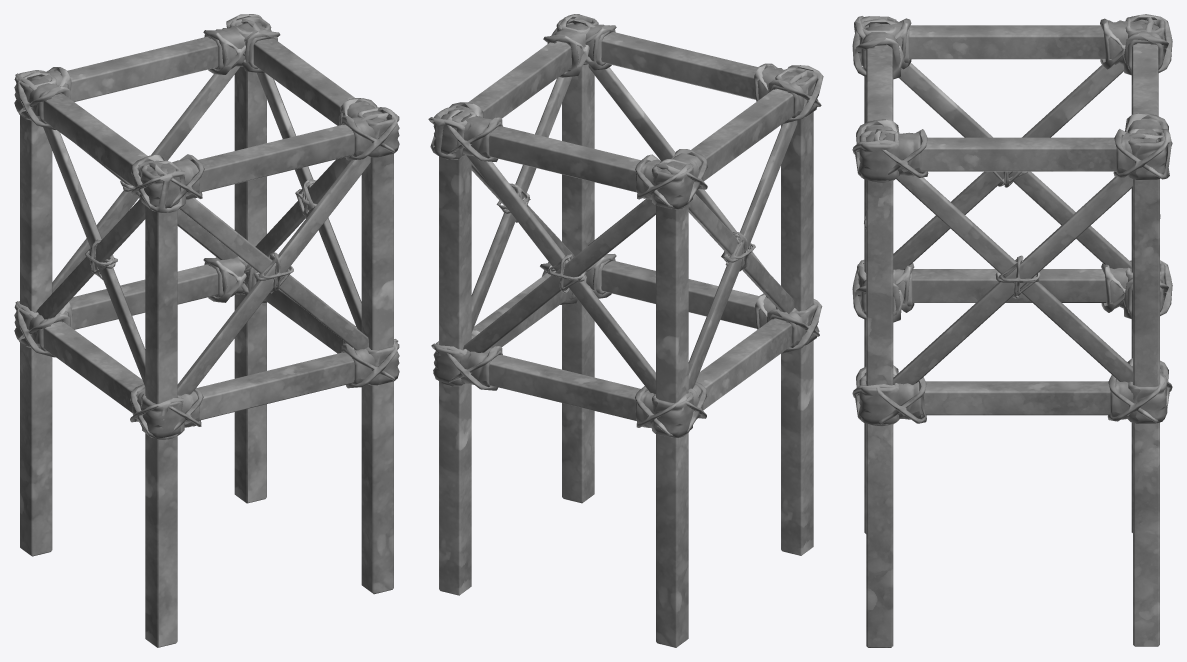
Rendered from SM_Scafold_01a.fbx.
3 renders of one model, left to right at view 1: azimuth 30°, elevation 25°; view 2: azimuth 150°, elevation 25°; view 3: azimuth 270°, elevation 25°, orthographic. The views are drawn at different scales.
Visible parts, largest first — view 1: SM_Scafold_01a_LOD0; view 2: SM_Scafold_01a_LOD0; view 3: SM_Scafold_01a_LOD0.
Boxes of the visible parts, bbox=[...] form: SM_Scafold_01a_LOD0: bbox=[14, 14, 399, 647]; SM_Scafold_01a_LOD0: bbox=[428, 14, 823, 647]; SM_Scafold_01a_LOD0: bbox=[852, 14, 1172, 647].
Bounding box in the file's own units: 242 × 238 × 418.
